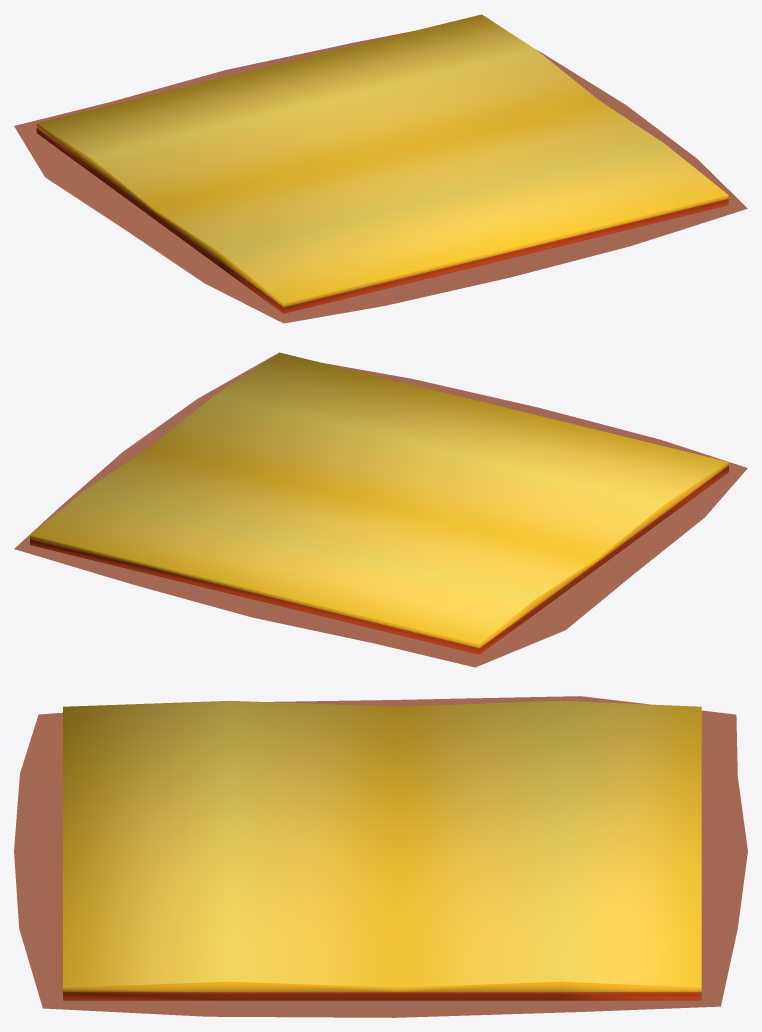
Rendered from Field_empty.FBX.
3 views of the same model, one above another, from view 1: azimuth 30°, elevation 25°; view 2: azimuth 150°, elevation 25°; view 3: azimuth 270°, elevation 25° (orthographic). The views are drawn at different scales.
Visible parts, largest first — view 1: Field_empty; view 2: Field_empty; view 3: Field_empty.
Part boxes in pixels (x1=…): Field_empty: x1=14, y1=14, x2=747, y2=323; Field_empty: x1=14, y1=352, x2=747, y2=667; Field_empty: x1=14, y1=696, x2=747, y2=1017.
Bounding box in the file's own units: 2.4 × 0.0683 × 2.32.
